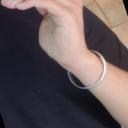hand: (0, 0, 88, 65)
